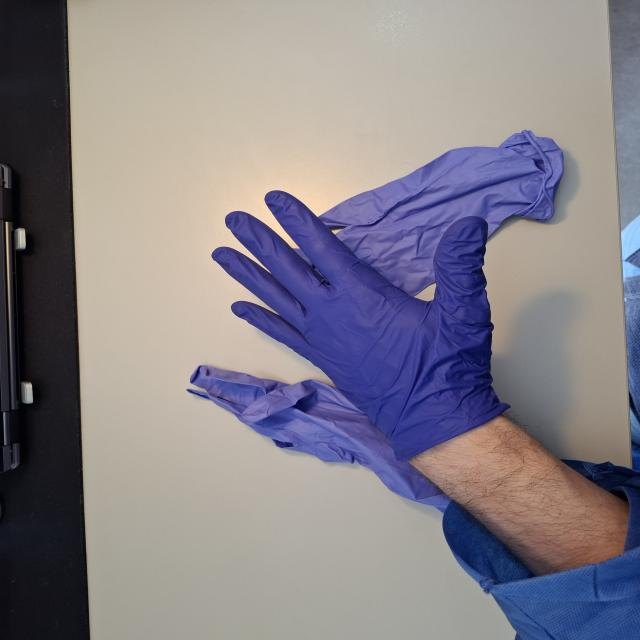glove_on: (208, 188, 497, 458)
